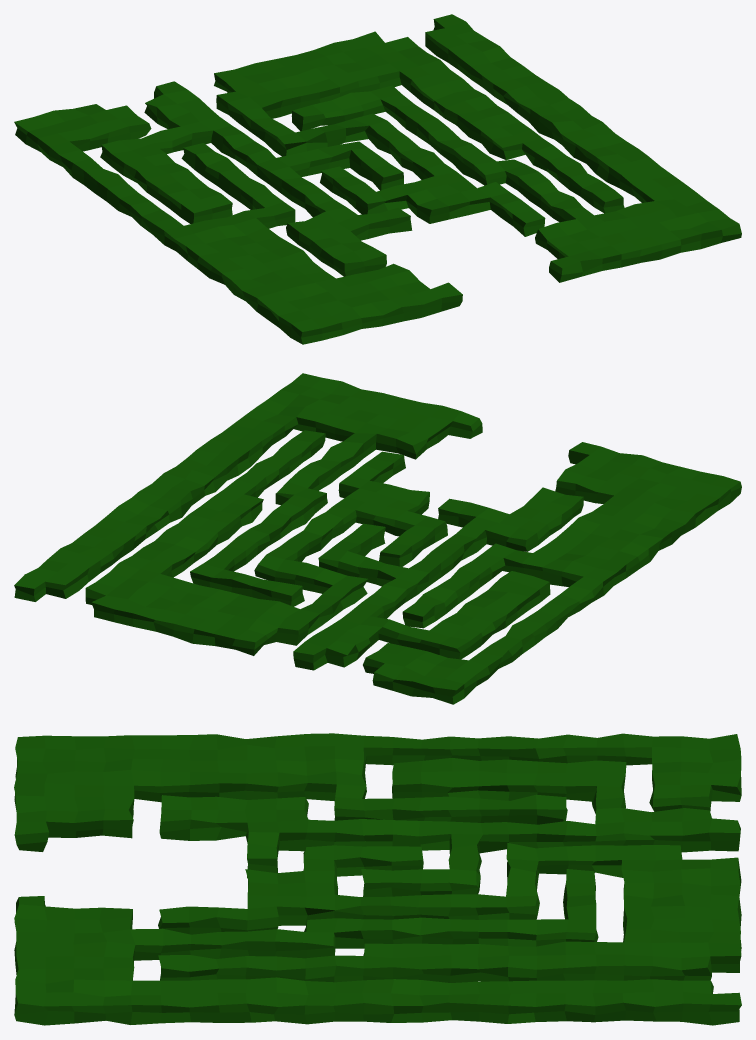
The model's file is Map.glb.
3 views of the same model, one above another, from view 1: azimuth 30°, elevation 25°; view 2: azimuth 150°, elevation 25°; view 3: azimuth 270°, elevation 25° (orthographic). The views are drawn at different scales.
Visible parts, largest first — view 1: Grid; view 2: Grid; view 3: Grid.
Boxes of the visible parts, x1,y1,x2,y2 form: Grid: [14, 14, 741, 344]; Grid: [14, 373, 741, 704]; Grid: [14, 733, 741, 1025].
Bounding box in the file's own units: 44.53 × 1.79 × 50.34.
